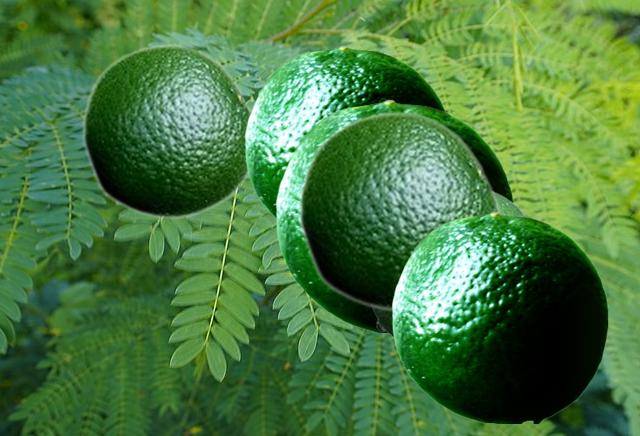calamansi: (276, 99, 513, 332), (392, 211, 607, 422), (297, 110, 501, 312), (245, 45, 446, 218), (81, 43, 251, 219), (371, 189, 527, 340)
